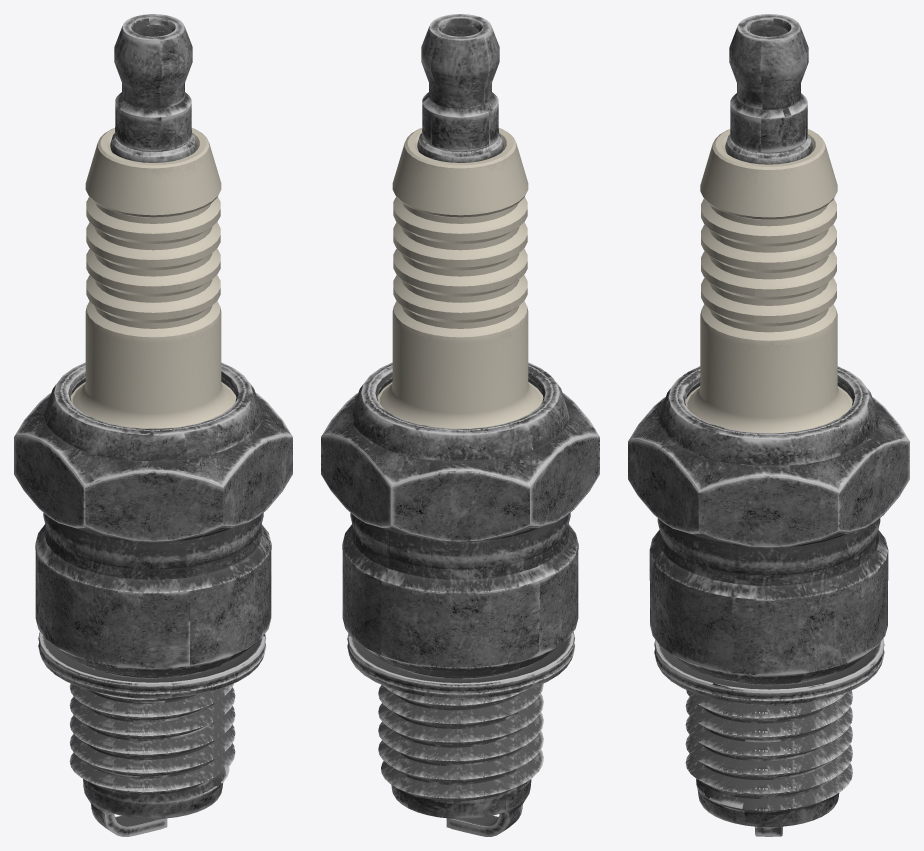
Rendered from busi.glb.
3 renders of one model, left to right at view 1: azimuth 30°, elevation 25°; view 2: azimuth 150°, elevation 25°; view 3: azimuth 270°, elevation 25°, orthographic.
Visible parts, largest first — view 1: SparkPlug; view 2: SparkPlug; view 3: SparkPlug.
Part boxes in pixels (x1,y1,x2,y2): SparkPlug: (14,14,292,836); SparkPlug: (321,14,599,836); SparkPlug: (628,14,909,836).
Bounding box in the file's own units: 0.6943 × 2.52 × 0.7964.
2 materials, 2 textured.
